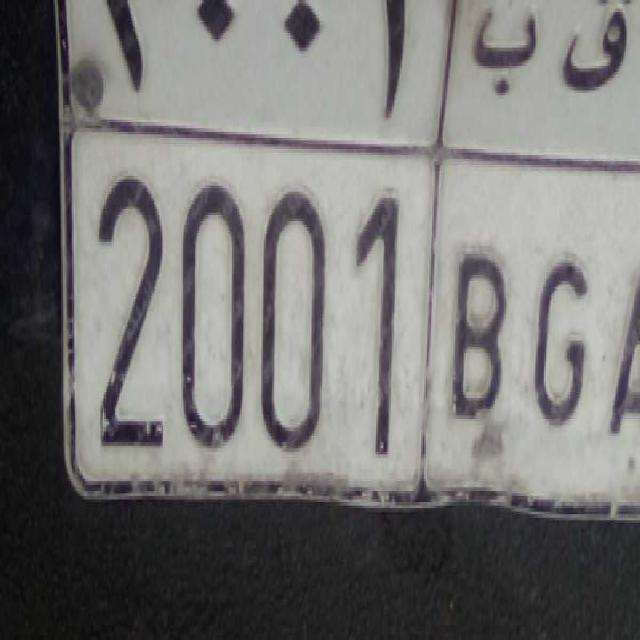license_plate: (71, 113, 640, 532)
